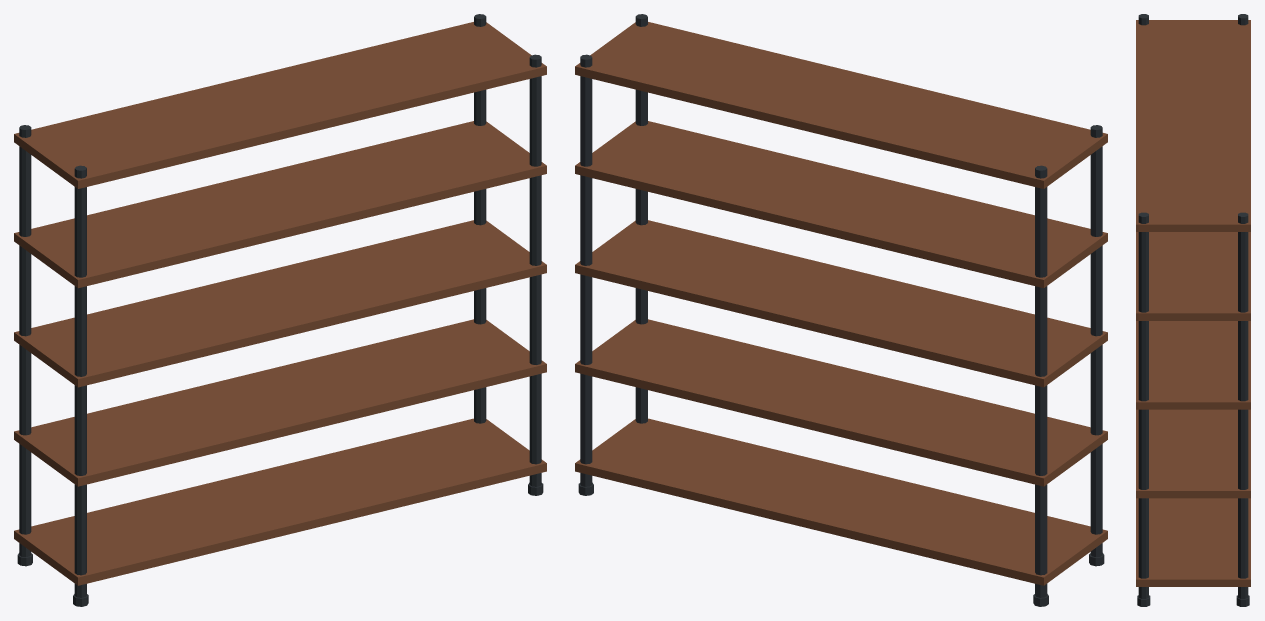
The model's file is SM_Props_Rack_02.glb.
3 views of the same model, side by side, from view 1: azimuth 30°, elevation 25°; view 2: azimuth 150°, elevation 25°; view 3: azimuth 270°, elevation 25° (orthographic). The views are drawn at different scales.
Visible parts, largest first — view 1: SM_Props_Rack_02; view 2: SM_Props_Rack_02; view 3: SM_Props_Rack_02.
Part boxes in pixels (bbox=[...]): SM_Props_Rack_02: bbox=[14, 14, 546, 606]; SM_Props_Rack_02: bbox=[575, 14, 1107, 606]; SM_Props_Rack_02: bbox=[1136, 14, 1250, 606].
Size of the model in its own units: 2.44 by 2.16 by 0.5767.
Materials: 1 (1 with a texture image).
